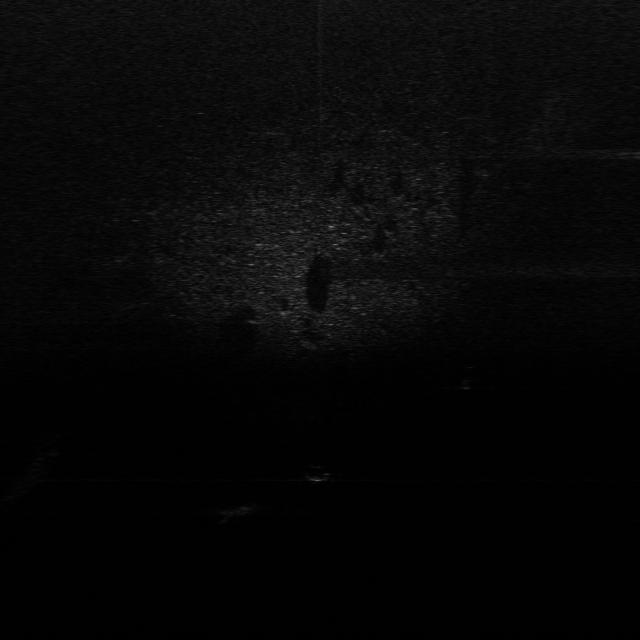ball: (303, 458, 337, 487)
square cage: (218, 500, 263, 519)
tyre: (454, 361, 486, 394)
